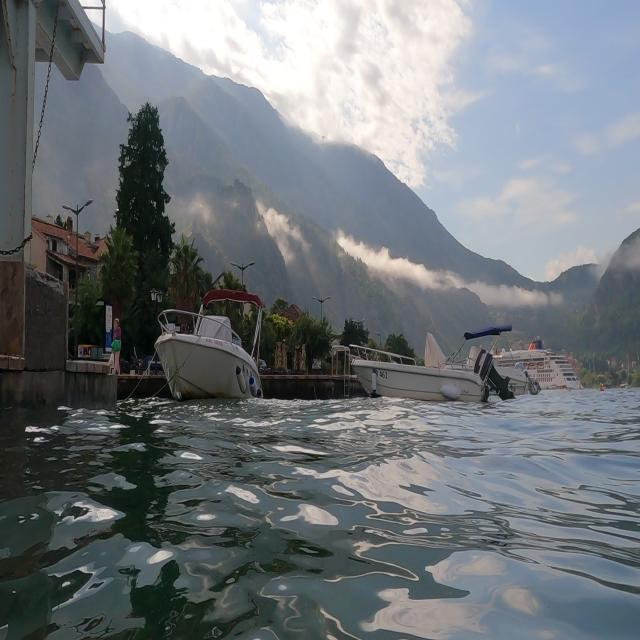boat: (326, 320, 536, 429), (152, 283, 267, 404)
